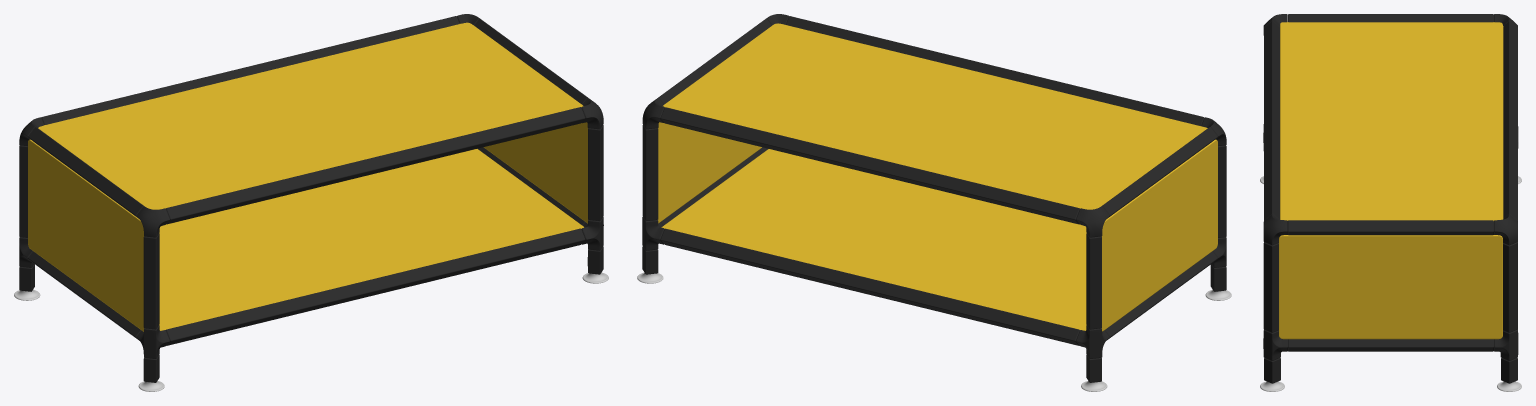
The picture shows the model from 3 angles, left to right: view 1: azimuth 30°, elevation 25°; view 2: azimuth 150°, elevation 25°; view 3: azimuth 270°, elevation 25°; orthographic projection. The views are drawn at different scales.
Parts seen in each view (by area): view 1: 729x329x154; view 2: 729x329x154; view 3: 729x329x154.
Boxes of the visible parts, x1=… form: 729x329x154: x1=14, y1=14, x2=608, y2=391; 729x329x154: x1=637, y1=14, x2=1231, y2=391; 729x329x154: x1=1260, y1=14, x2=1521, y2=391.
Bounding box in the file's own units: 0.8189 × 0.2933 × 0.4182.
